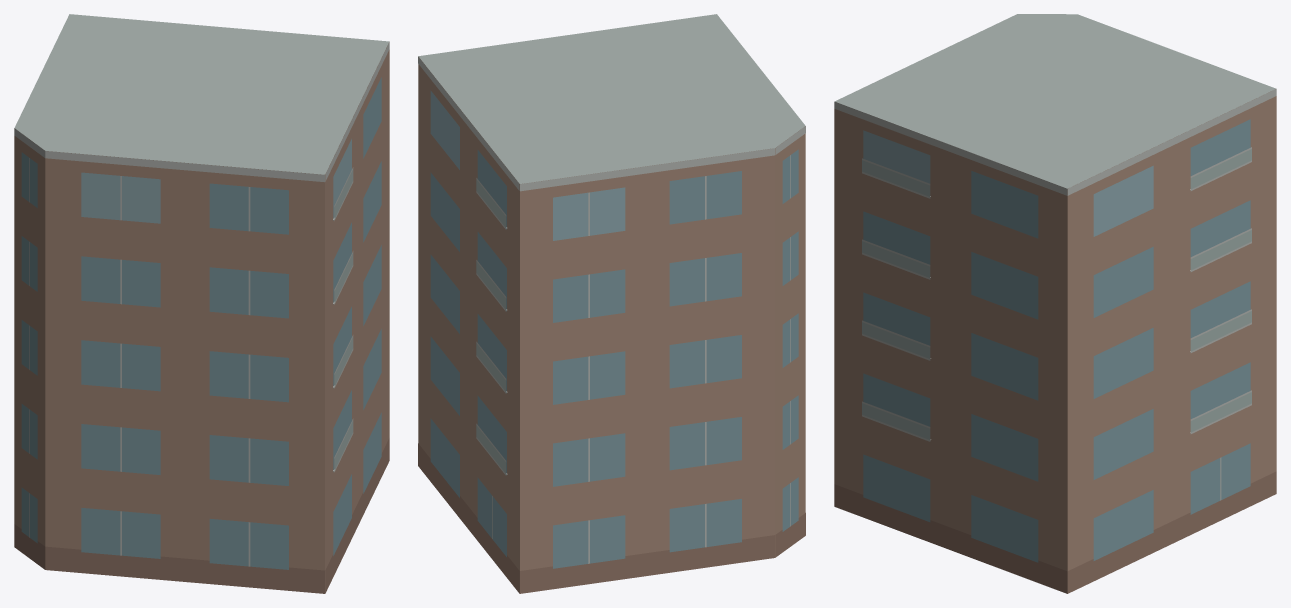
File: survey-upis-32523439.glb
3 renders of one model, left to right at view 1: azimuth 30°, elevation 25°; view 2: azimuth 150°, elevation 25°; view 3: azimuth 270°, elevation 25°, orthographic. The views are drawn at different scales.
Parts seen in each view (by area): view 1: survey-upis-32523439.tmp; view 2: survey-upis-32523439.tmp; view 3: survey-upis-32523439.tmp.
Part boxes in pixels (x1,y1,x2,y2): survey-upis-32523439.tmp: [14, 14, 389, 593]; survey-upis-32523439.tmp: [418, 14, 805, 593]; survey-upis-32523439.tmp: [834, 14, 1276, 593].
Size of the model in its own units: 12.68 by 13.7 by 13.55.
